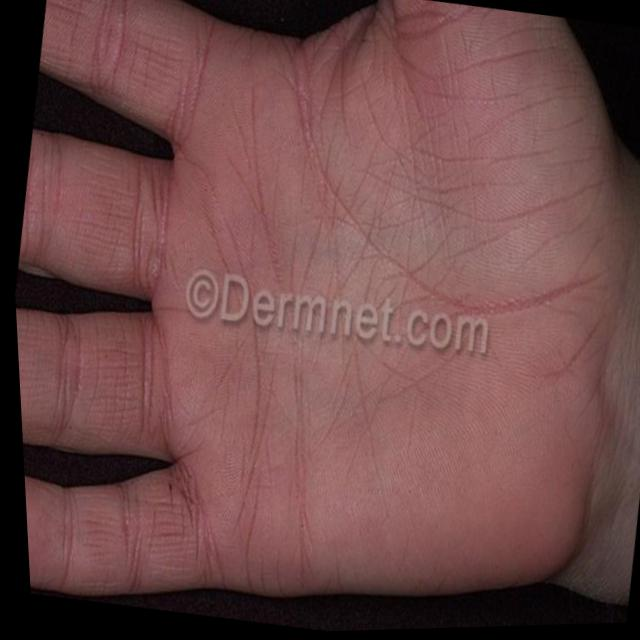liquenificacion 1: (16, 0, 614, 599)
